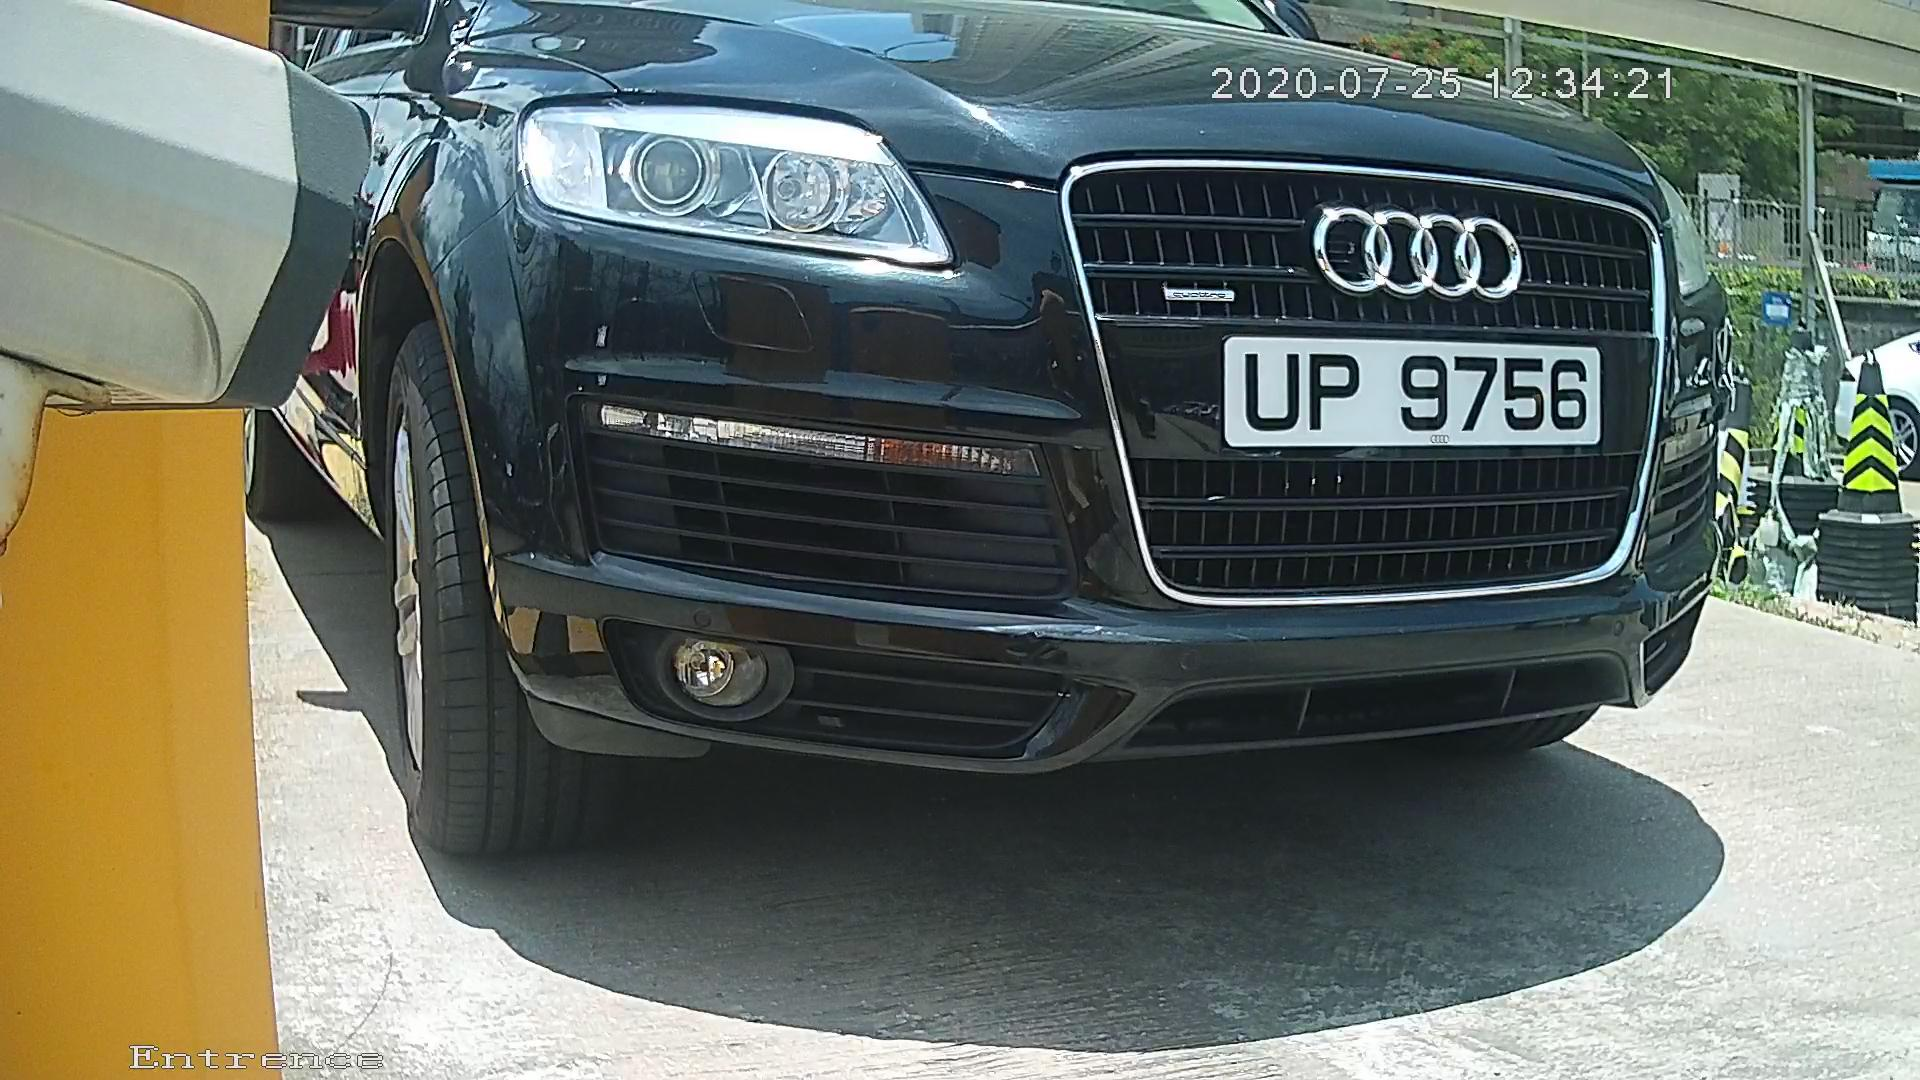License Plate: (1192, 314, 1603, 487)
